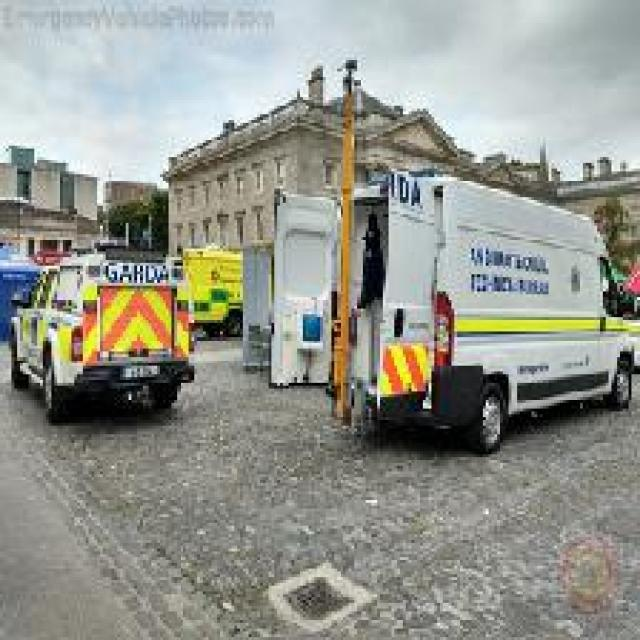Ambulance: (337, 169, 637, 454), (6, 246, 194, 423)
